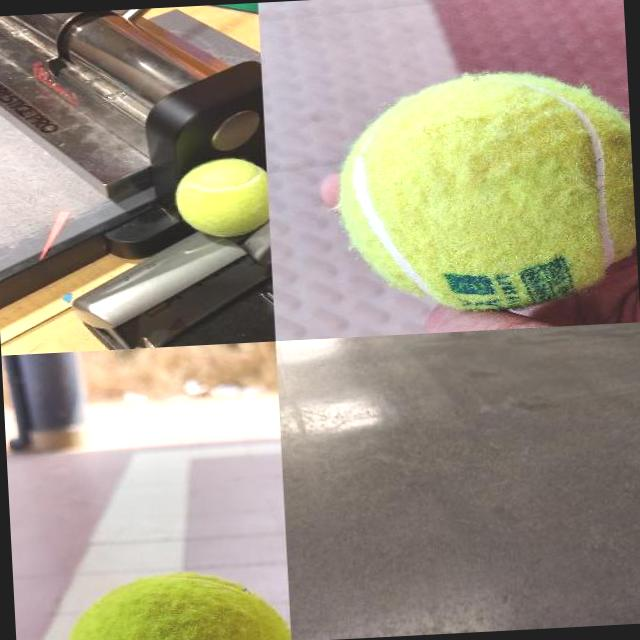Tennis Ball: (331, 64, 638, 320), (57, 567, 290, 640), (170, 154, 269, 242)
